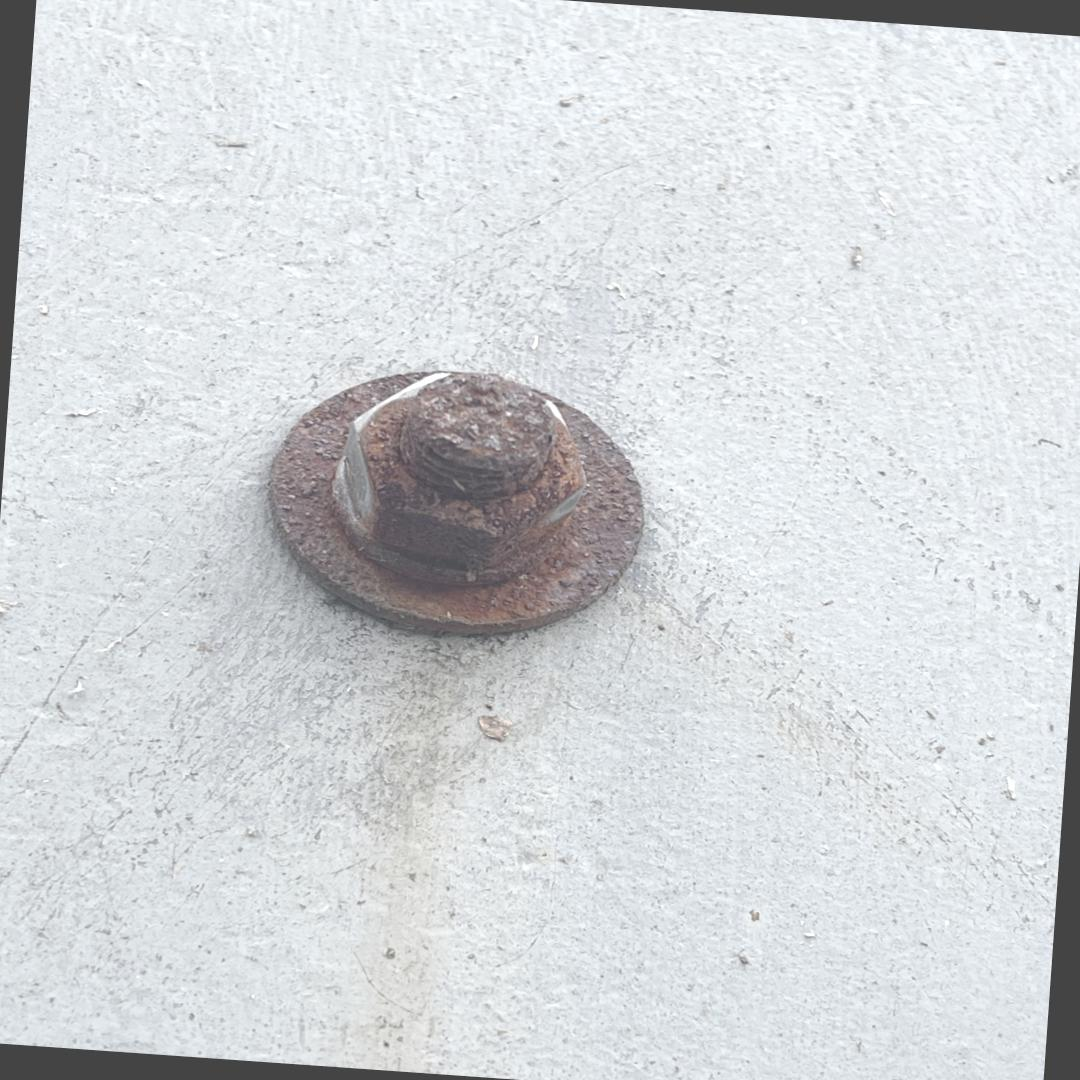Metal corroido: (265, 372, 647, 641)
Tornillo sin corrosion: (335, 370, 449, 519), (551, 487, 583, 520), (548, 401, 566, 427)
